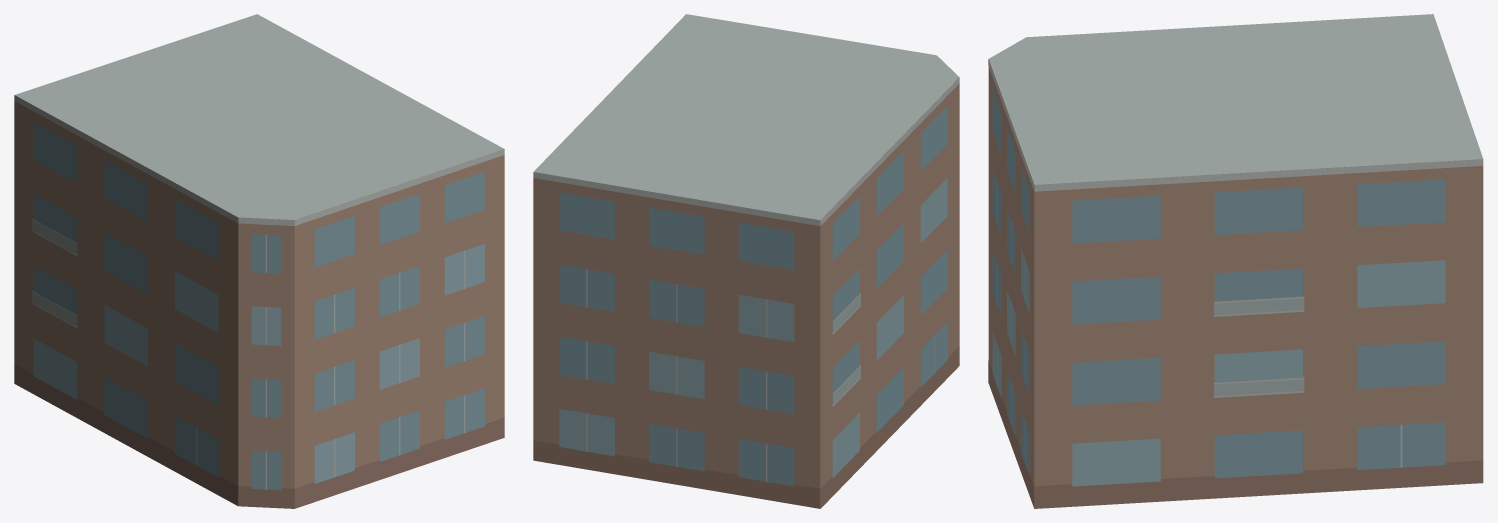
The model's file is survey-upis-32631070.glb.
3 views of the same model, side by side, from view 1: azimuth 30°, elevation 25°; view 2: azimuth 150°, elevation 25°; view 3: azimuth 270°, elevation 25° (orthographic). The views are drawn at different scales.
Visible parts, largest first — view 1: survey-upis-32631070.tmp; view 2: survey-upis-32631070.tmp; view 3: survey-upis-32631070.tmp.
Part boxes in pixels (left/top/right/bottom): survey-upis-32631070.tmp: left=14, top=14, right=504, bottom=508; survey-upis-32631070.tmp: left=533, top=14, right=959, bottom=508; survey-upis-32631070.tmp: left=988, top=14, right=1483, bottom=508.
Bounding box in the file's own units: 13.25 × 11.7 × 16.21.
